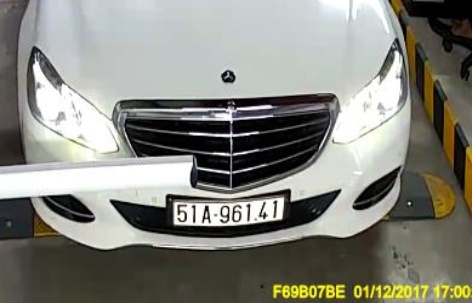plate: (170, 193, 283, 230)
